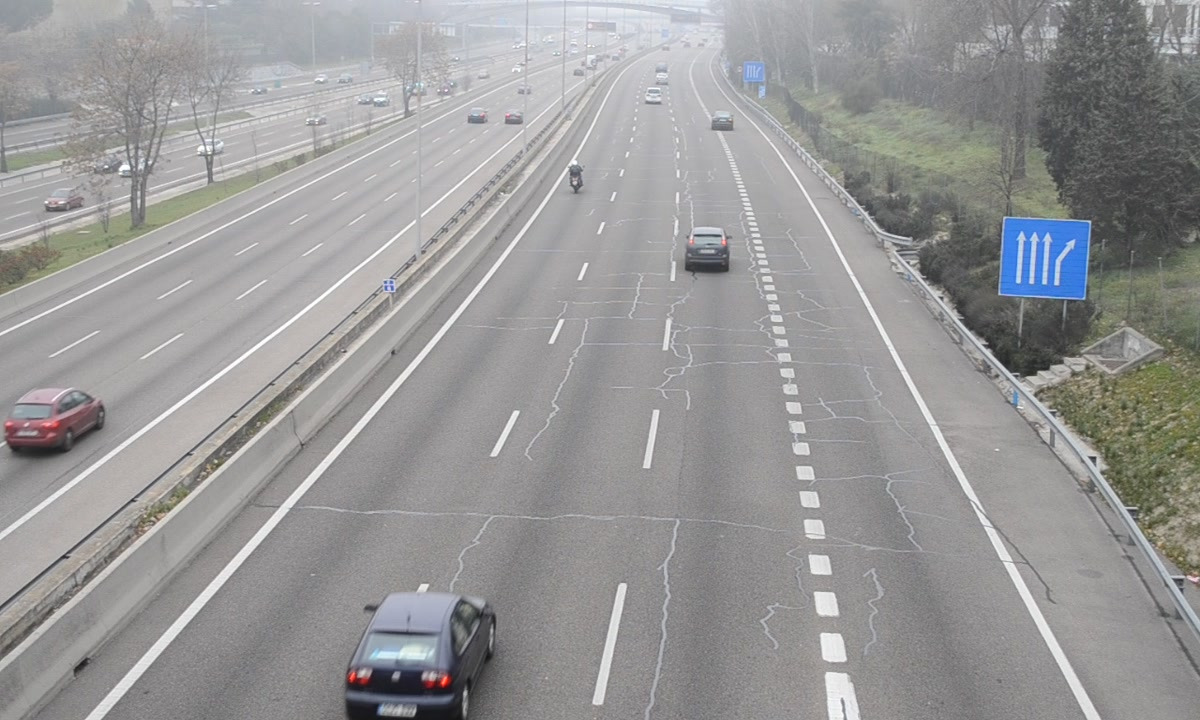car: (345, 592, 494, 720), (685, 227, 732, 274), (711, 111, 732, 132)
motorcycle: (567, 160, 584, 196)
